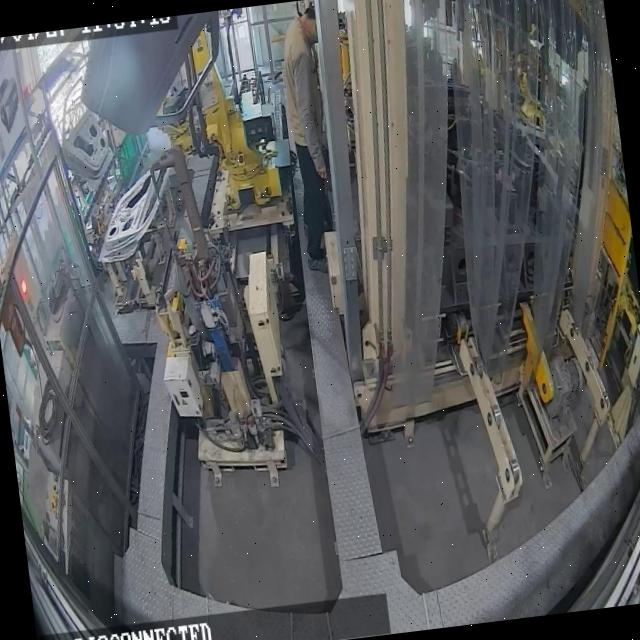Person: (273, 2, 347, 276)
